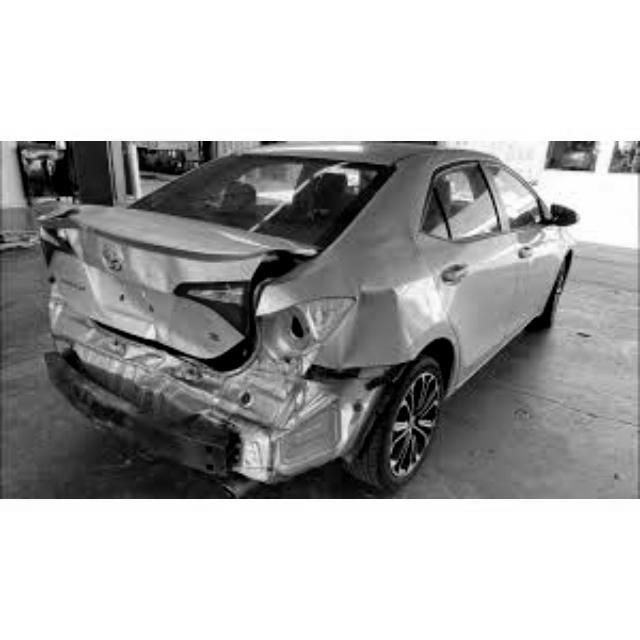Taillight-Damage: (215, 297, 352, 342)
boot-dent: (67, 203, 295, 354)
quaterpanel-dent: (311, 242, 430, 389)
rear-bumper-dent: (40, 322, 172, 439), (194, 364, 332, 467)
